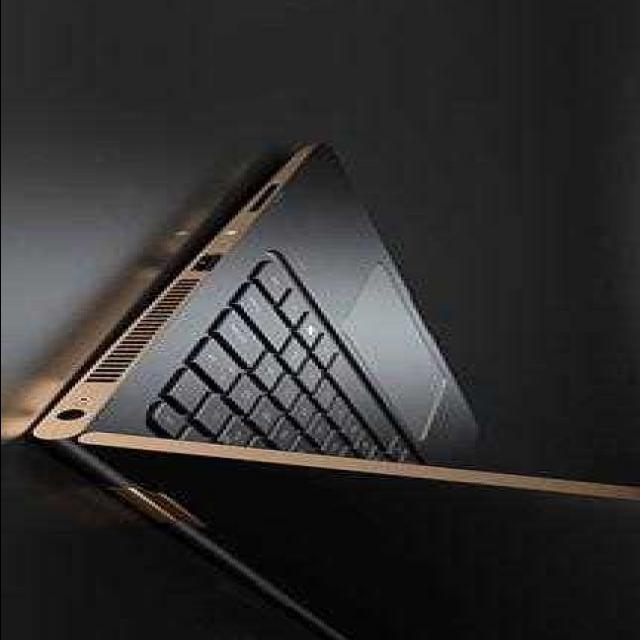laptop: (26, 138, 624, 616)
